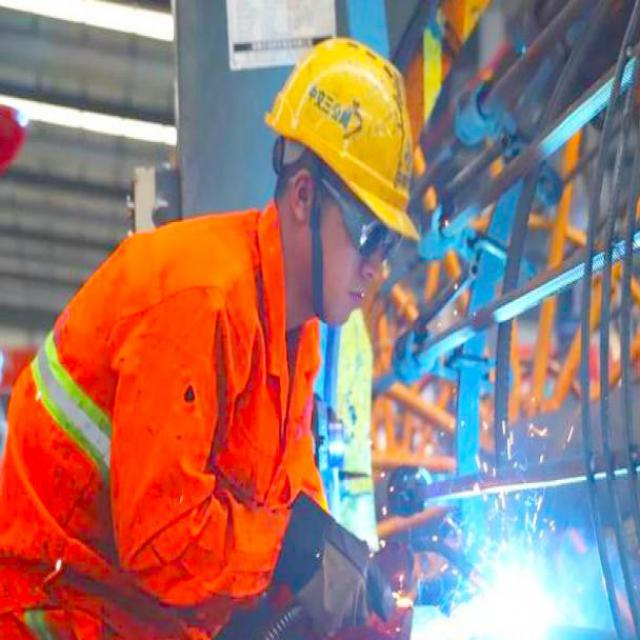helmet: (255, 19, 432, 330)
